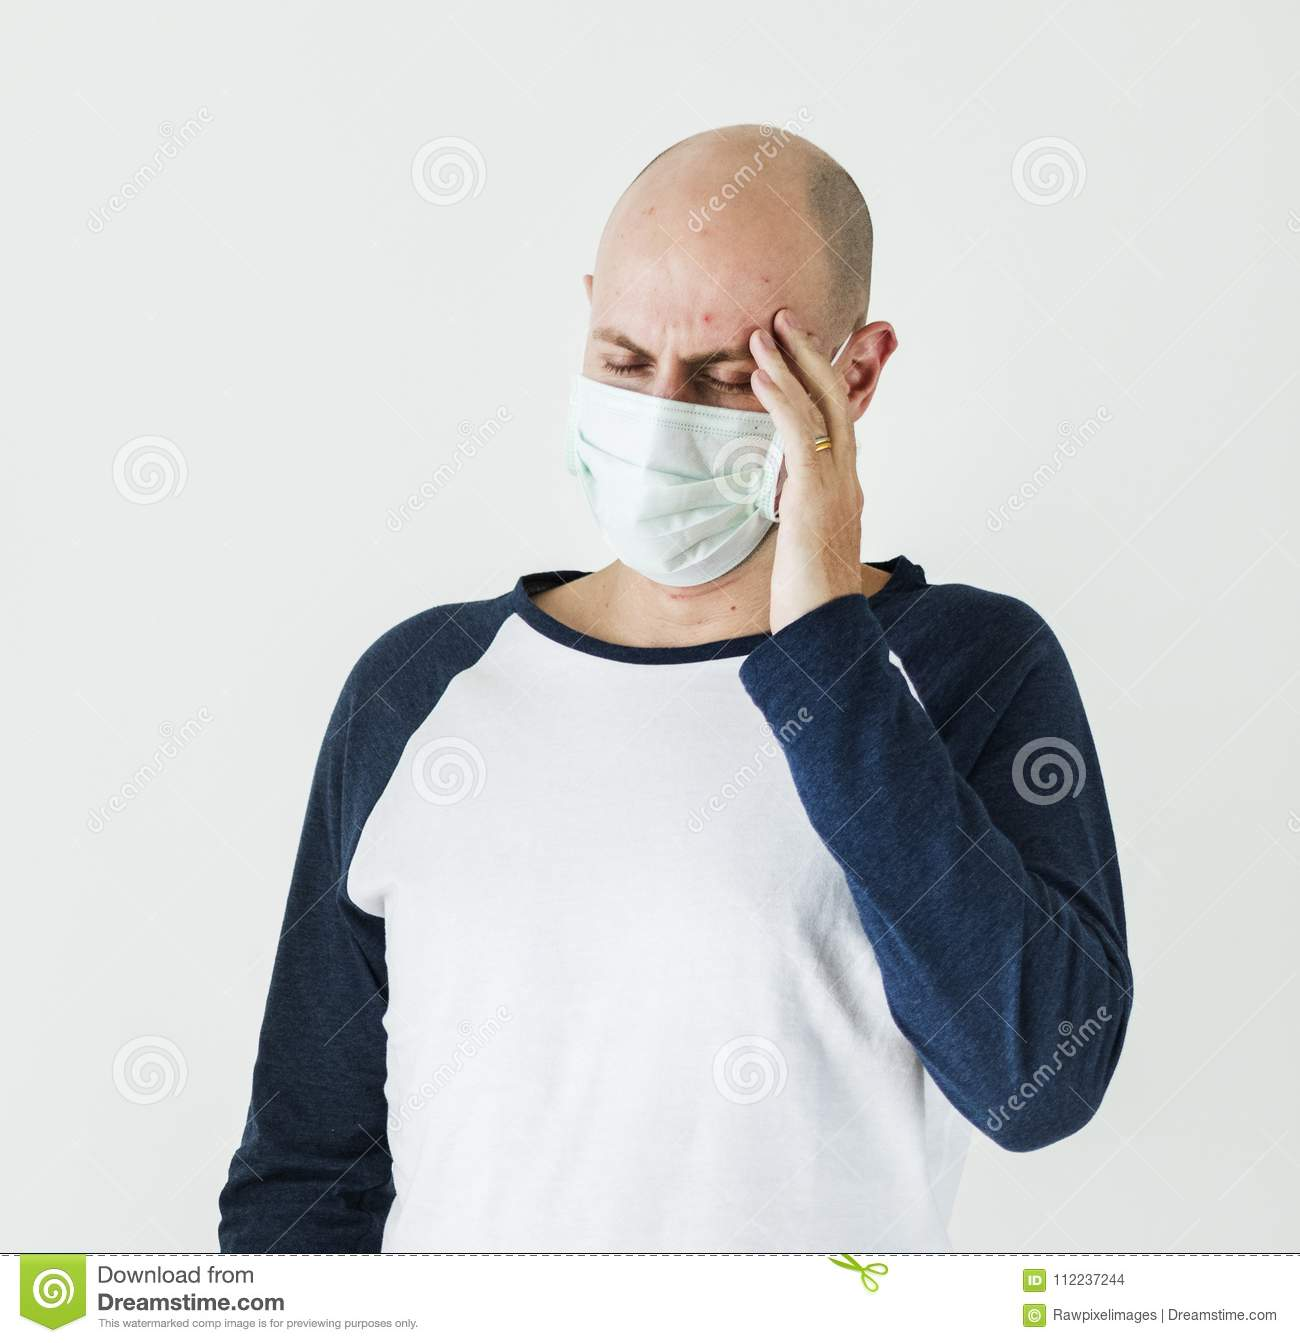mask: (562, 383, 807, 610)
